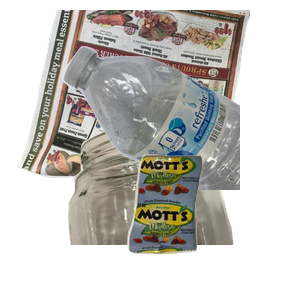glass: (61, 120, 287, 300)
paper: (14, 10, 254, 190)
plastic: (60, 44, 300, 224)
trash: (125, 152, 300, 300)
